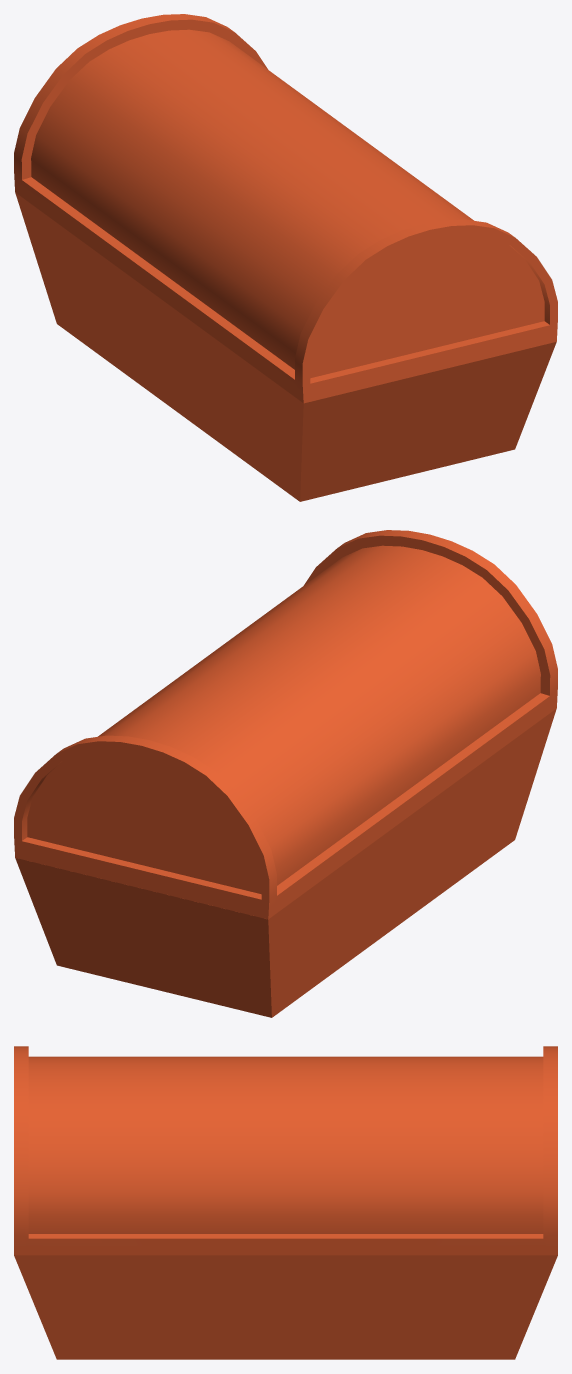
Rendered from Chest_low.fbx.
3 views of the same model, one above another, from view 1: azimuth 30°, elevation 25°; view 2: azimuth 150°, elevation 25°; view 3: azimuth 270°, elevation 25° (orthographic). The views are drawn at different scales.
Parts seen in each view (by area): view 1: Lid_low.002; view 2: Lid_low.002; view 3: Lid_low.002.
Boxes of the visible parts, bbox=[...] form: Lid_low.002: bbox=[14, 14, 557, 501]; Lid_low.002: bbox=[14, 530, 557, 1017]; Lid_low.002: bbox=[14, 1046, 557, 1359].
Bounding box in the file's own units: 83.31 × 81.82 × 163.
